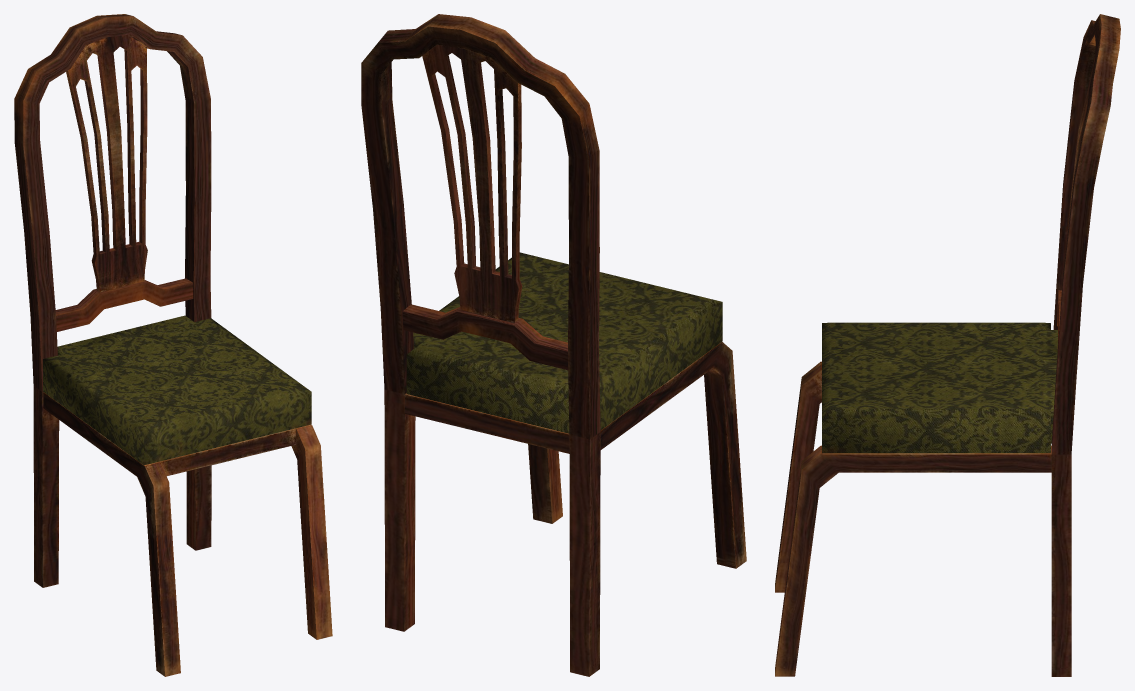
The picture shows the model from 3 angles, left to right: view 1: azimuth 30°, elevation 25°; view 2: azimuth 150°, elevation 25°; view 3: azimuth 270°, elevation 25°; orthographic projection. The views are drawn at different scales.
Parts seen in each view (by area): view 1: Chair; view 2: Chair; view 3: Chair.
Boxes of the visible parts, x1,y1,x2,y2 form: Chair: (14,14,332,676); Chair: (361,14,746,676); Chair: (775,14,1120,676).
Bounding box in the file's own units: 165 × 447 × 231.
Materials: 1 (1 with a texture image).
